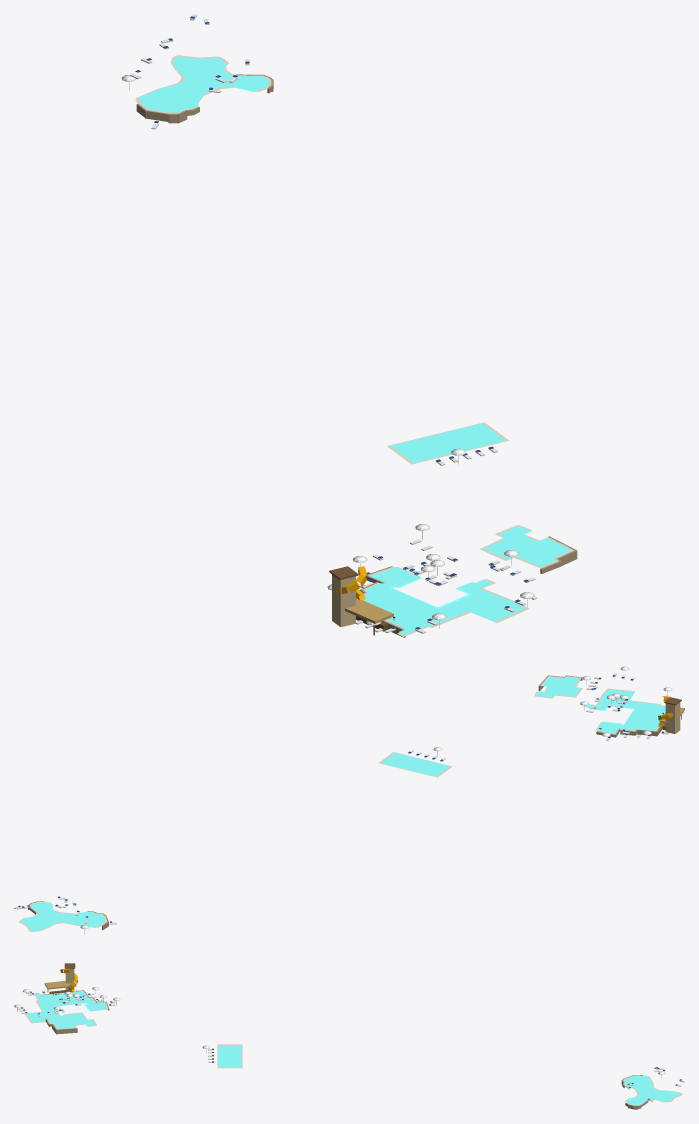
The model's file is hyattpool.glb.
The picture shows the model from 3 angles, top to bottom: view 1: azimuth 30°, elevation 25°; view 2: azimuth 150°, elevation 25°; view 3: azimuth 270°, elevation 25°; orthographic projection. The views are drawn at different scales.
Visible parts, largest first — view 1: hyattpool_lod0; view 2: hyattpool_lod0; view 3: hyattpool_lod0.
Part boxes in pixels (left/top/right/bottom): hyattpool_lod0: left=121, top=14, right=577, bottom=637; hyattpool_lod0: left=14, top=666, right=684, bottom=933; hyattpool_lod0: left=14, top=963, right=684, bottom=1109.
Size of what is drawn, in the model's own units: 98.09 by 10.27 by 227.
